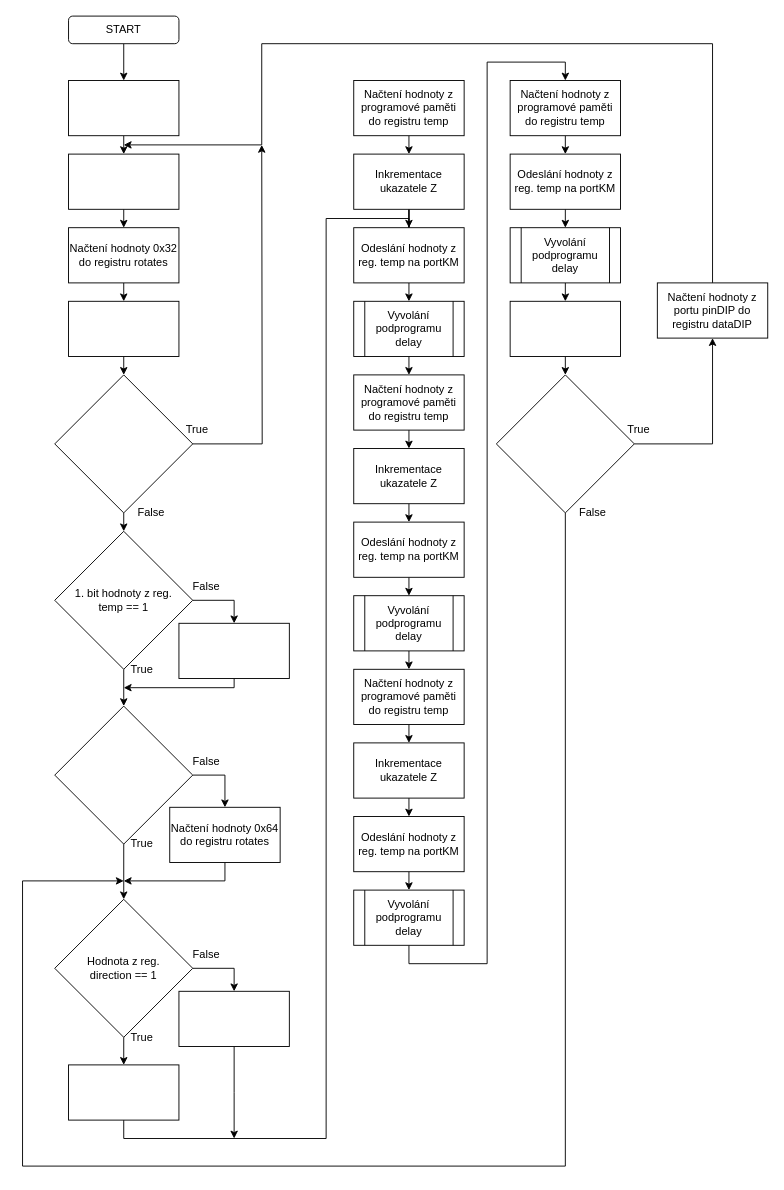
Some shapes in this 784 by 1190 pixel diagram are drawn without their labels. Each missing label, with the box of its shape:
3. bit hodnoty z reg. temp == 1: (54, 705, 193, 844)
Dekrementace registru rotates: (509, 300, 621, 356)
Inicializace zásobníku a portů (portDIP a portKM): (68, 80, 179, 136)
Nastavení ukazatele Z na tb_rotL: (178, 990, 289, 1046)
Nastavení ukazatele Z na tb_rotR: (68, 1064, 179, 1120)
Načtení hodnoty 1 do registru direction: (68, 153, 179, 209)
Načtení hodnoty 2 do registru direction: (178, 622, 289, 678)
Načtení hodnoty z portu pinDIP do registru temp: (68, 300, 179, 356)
rotates == 0: (495, 374, 634, 513)
temp == dataDIP: (54, 374, 193, 513)
